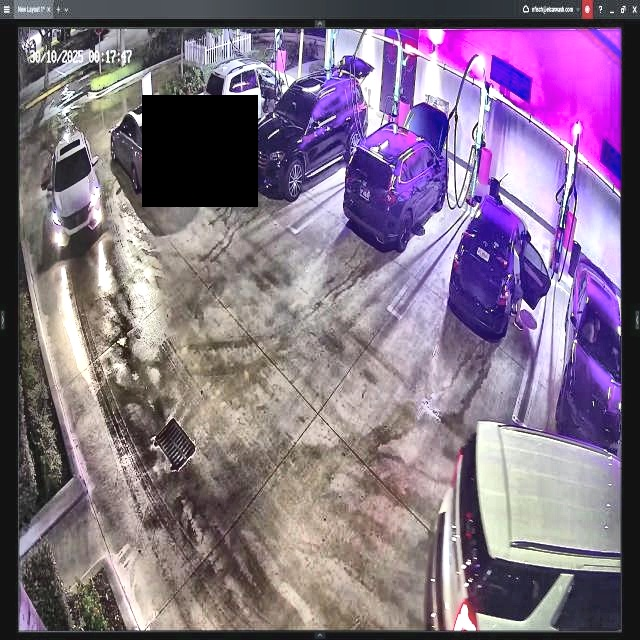Car: (432, 414, 622, 630), (243, 52, 369, 193), (345, 106, 448, 248), (448, 192, 549, 335), (114, 107, 142, 186)
